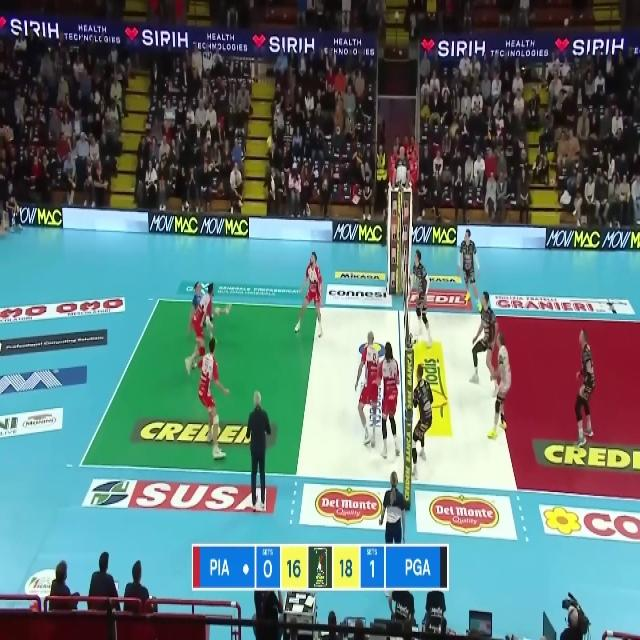volleyball court: (77, 296, 639, 499)
